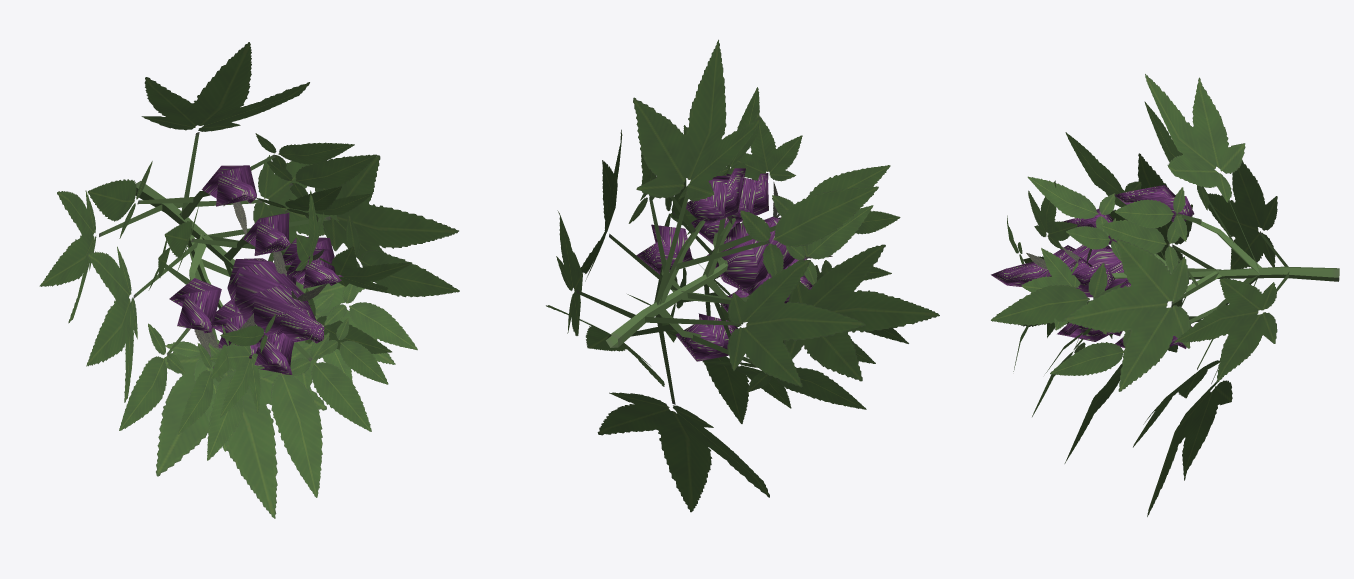
The model's file is p_purple_auto_flowering_c0_cards.obj.
The picture shows the model from 3 angles, left to right: view 1: azimuth 30°, elevation 25°; view 2: azimuth 150°, elevation 25°; view 3: azimuth 270°, elevation 25°; orthographic projection. The views are drawn at different scales.
Bounding box in the file's own units: 1.15 × 1.44 × 0.944.
Materials: 1 (1 with a texture image).
